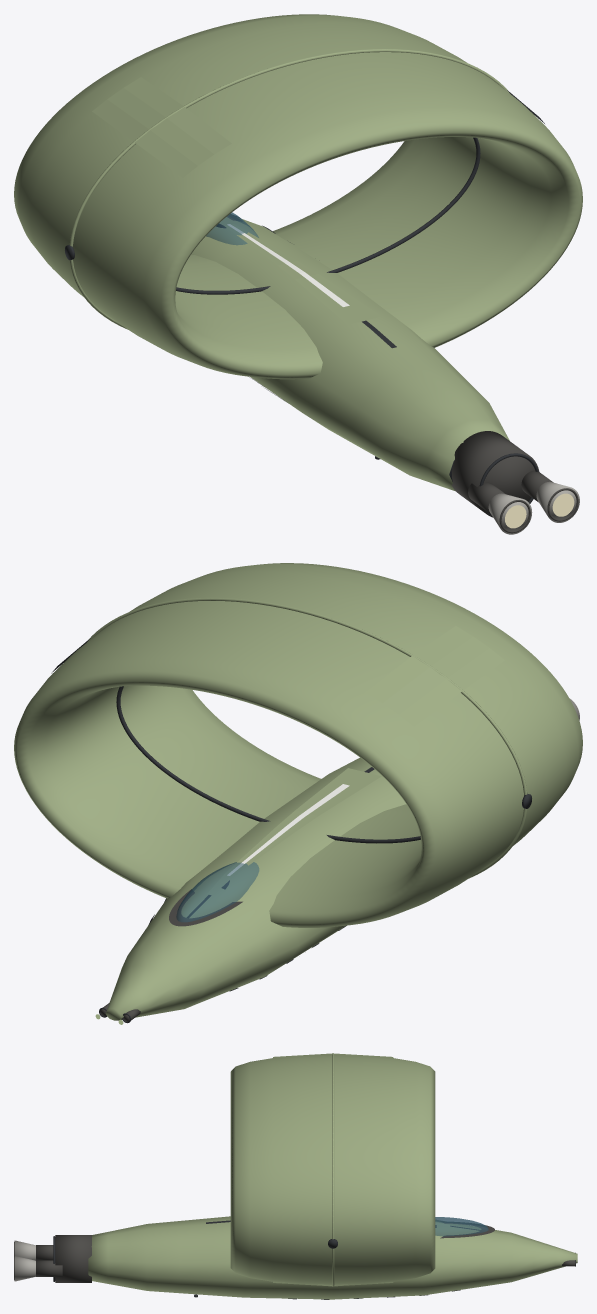
File: Ship_Hooper_219385.glb
3 views of the same model, one above another, from view 1: azimuth 30°, elevation 25°; view 2: azimuth 150°, elevation 25°; view 3: azimuth 270°, elevation 25° (orthographic). The views are drawn at different scales.
Parts seen in each view (by area): view 1: Hoop_MainStructuralRing_YAxisHole_ElongatedY_LowerMidpointAt, Fuselage_MainCenteredHull_CenterOfMassAtOrigin, PaintHoopCleanOrbital_02_ShortTrimBand, EngineBlock_AftHullIntegratedMountPlate, PaintFuselage_DorsalPrimaryBlade, Hoop_OuterArmorRaisedRim, Hoop_InnerLip_DarkInsetRing, CanopyGlass_LowForwardPodDome, EngineBell_Right_AftHullBurnishedNozzle, EngineBell_Left_AftHullBurnishedNozzle, EngineEmitter; view 2: Hoop_MainStructuralRing_YAxisHole_ElongatedY_LowerMidpointAt, Fuselage_MainCenteredHull_CenterOfMassAtOrigin, PaintHoopCleanOrbital_02_ShortTrimBand, CanopyGlass_LowForwardPodDome, PaintFuselage_DorsalPrimaryBlade, Hoop_OuterArmorRaisedRim, Hoop_InnerLip_DarkInsetRing, CanopyFrame_LowInsetOvalRim, PaintFuselage_DorsalSecondaryPinstripe; view 3: Hoop_MainStructuralRing_YAxisHole_ElongatedY_LowerMidpointAt, Fuselage_MainCenteredHull_CenterOfMassAtOrigin, EngineBlock_AftHullIntegratedMountPlate, CanopyGlass_LowForwardPodDome, Hoop_OuterArmorRaisedRim, EngineBell_Right_AftHullBurnishedNozzle, EngineThroat_Right_AftHullDarkSocket, EngineBell_Left_AftHullBurnishedNozzle, CanopyFrame_LowInsetOvalRim.
Part boxes in pixels (x1,y1,x2,y2): Hoop_MainStructuralRing_YAxisHole_ElongatedY_LowerMidpointAt: (14,14,582,379); Fuselage_MainCenteredHull_CenterOfMassAtOrigin: (191,217,509,491); PaintHoopCleanOrbital_02_ShortTrimBand: (92,77,231,177); EngineBlock_AftHullIntegratedMountPlate: (452,431,539,517); PaintFuselage_DorsalPrimaryBlade: (219,220,381,324); Hoop_OuterArmorRaisedRim: (69,49,509,329); Hoop_InnerLip_DarkInsetRing: (176,137,480,294); CanopyGlass_LowForwardPodDome: (206,212,258,245); EngineBell_Right_AftHullBurnishedNozzle: (536,481,579,522); EngineBell_Left_AftHullBurnishedNozzle: (488,493,532,534); EngineEmitter: (505,493,574,528); Hoop_MainStructuralRing_YAxisHole_ElongatedY_LowerMidpointAt: (14,563,582,927); Fuselage_MainCenteredHull_CenterOfMassAtOrigin: (105,758,406,1020); PaintHoopCleanOrbital_02_ShortTrimBand: (365,626,504,726); CanopyGlass_LowForwardPodDome: (176,862,259,922); PaintFuselage_DorsalPrimaryBlade: (207,768,381,895); Hoop_OuterArmorRaisedRim: (87,597,527,878); Hoop_InnerLip_DarkInsetRing: (116,686,420,843); CanopyFrame_LowInsetOvalRim: (169,889,242,926); PaintFuselage_DorsalSecondaryPinstripe: (227,784,349,875); Hoop_MainStructuralRing_YAxisHole_ElongatedY_LowerMidpointAt: (230,1055,435,1284); Fuselage_MainCenteredHull_CenterOfMassAtOrigin: (88,1216,577,1299); EngineBlock_AftHullIntegratedMountPlate: (55,1235,91,1282); CanopyGlass_LowForwardPodDome: (435,1217,488,1236); Hoop_OuterArmorRaisedRim: (332,1053,334,1286); EngineBell_Right_AftHullBurnishedNozzle: (14,1256,35,1281); EngineThroat_Right_AftHullDarkSocket: (36,1260,62,1276); EngineBell_Left_AftHullBurnishedNozzle: (14,1240,35,1260); CanopyFrame_LowInsetOvalRim: (440,1222,494,1238).
Size of the model in its own units: 4.02 by 2.69 by 6.51.
